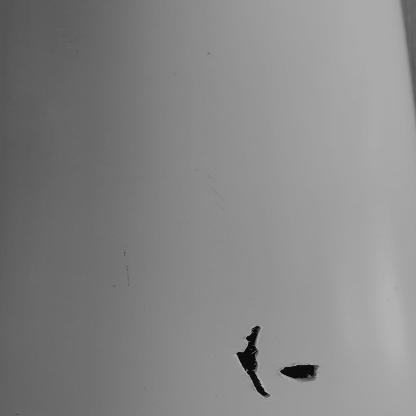kongdong: (233, 325, 272, 399), (281, 362, 320, 382)
